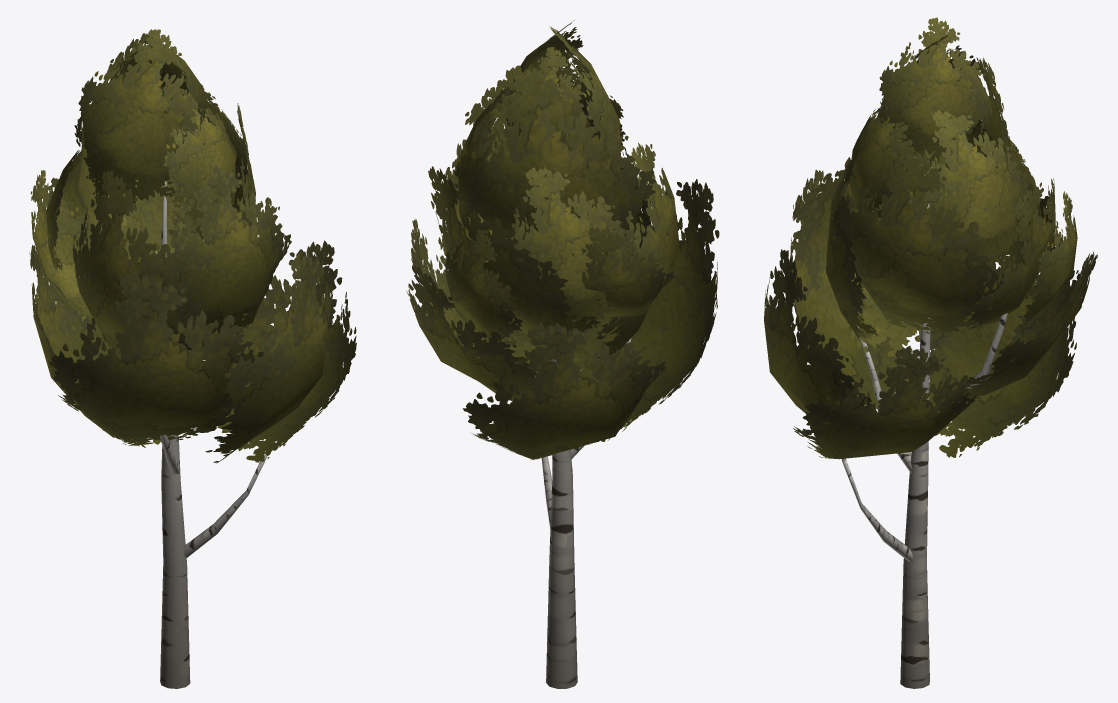
The model's file is birch.glb.
3 views of the same model, side by side, from view 1: azimuth 30°, elevation 25°; view 2: azimuth 150°, elevation 25°; view 3: azimuth 270°, elevation 25° (orthographic). The views are drawn at different scales.
Visible parts, largest first — view 1: birch_green_1; view 2: birch_green_1; view 3: birch_green_1.
Boxes of the visible parts, left/top/right/bottom form: birch_green_1: left=29, top=29, right=356, bottom=688; birch_green_1: left=406, top=20, right=719, bottom=688; birch_green_1: left=764, top=17, right=1097, bottom=688.
Bounding box in the file's own units: 2.72 × 5.74 × 2.8.
1 material, 1 textured.
